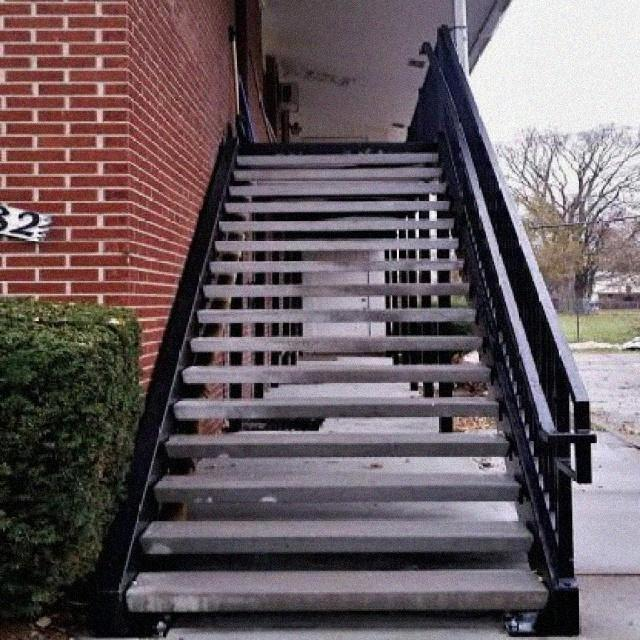stair: (31, 30, 608, 638)
